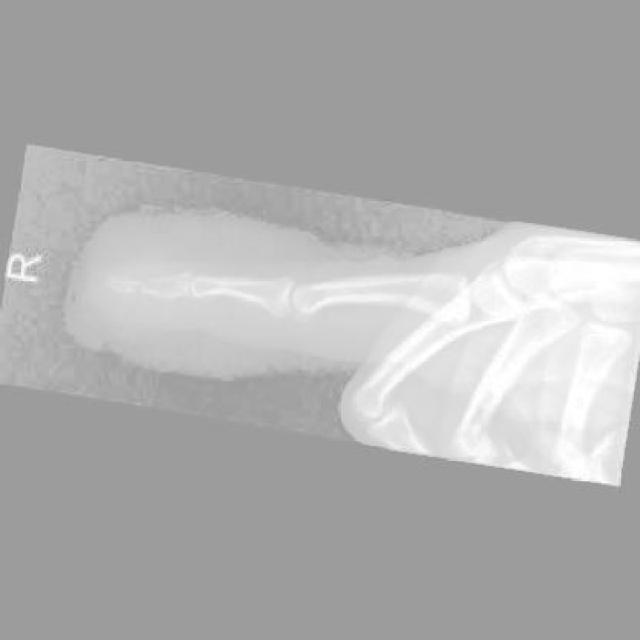Fracture: (118, 272, 157, 308)
